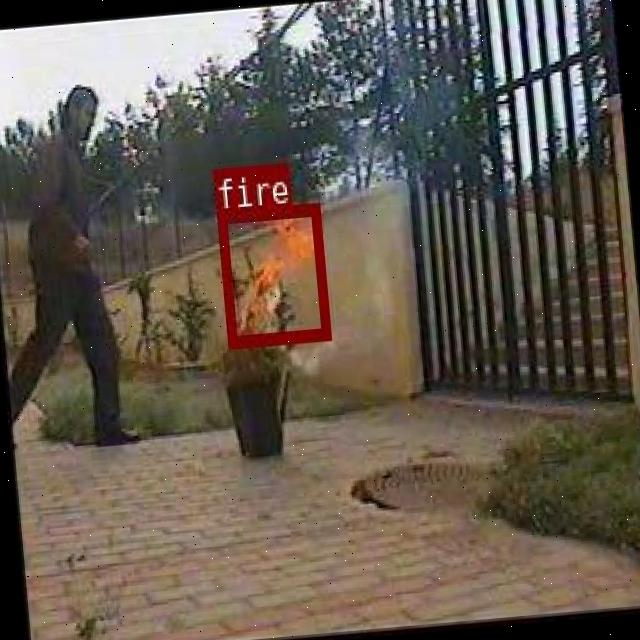fire: (214, 200, 330, 346)
